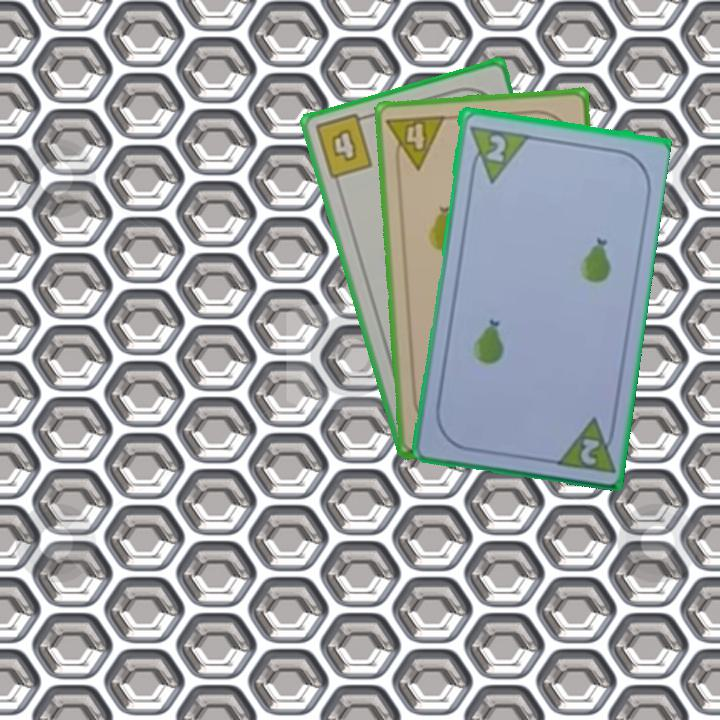2p: (550, 412, 619, 476), (465, 122, 529, 185)
4b: (310, 110, 375, 181)
4p: (383, 111, 448, 173)
